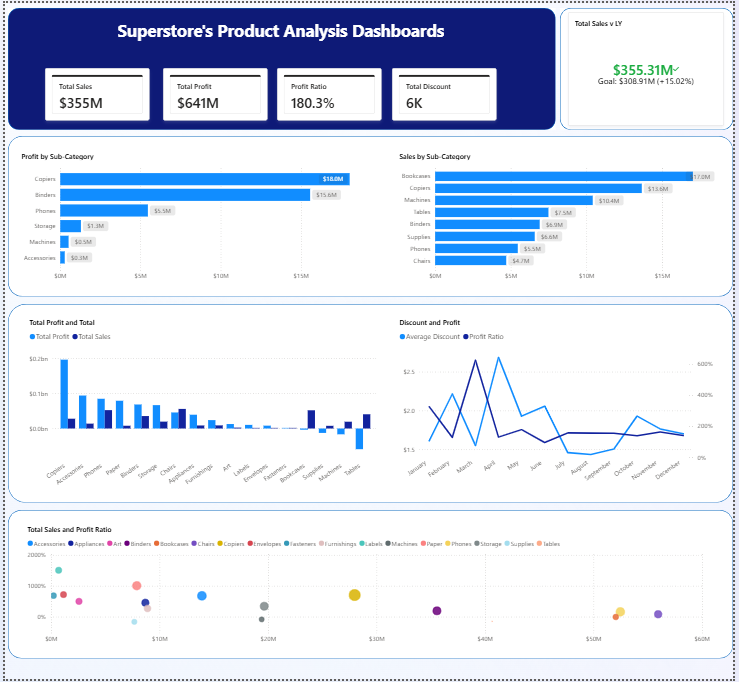

Layout of this report page (visuals, bound fields, positions):
{"tool":"powerbi","page":{"name":"Overview","canvas":[1400,1300],"ordinal":0},"visuals":[{"type":"shape","box":[1066.2,8.8,321.2,235],"z":0},{"type":"shape","box":[18.8,975,1368.8,286.2],"z":1000},{"type":"shape","box":[18.8,578.8,1368.8,382.5],"z":2000},{"type":"shape","box":[18.8,256.2,1368.8,308.8],"z":3000},{"type":"shape","box":[18.8,8.8,1040,235],"z":4000},{"type":"clusteredBarChart","title":"Sales by Sub-Category","fields":{"Category":["Superstore.Sub-Category"],"Y":["Superstore.Total Sales"]},"box":[746,273,627,277],"z":5000},{"type":"clusteredBarChart","title":"Profit by Sub-Category","fields":{"Y":["Superstore.Total Sales"],"Category":["Superstore.Sub-Category"]},"box":[31,273,699,277],"z":6000},{"type":"clusteredColumnChart","title":"Total Profit and Total ","fields":{"Y":["Superstore.Total Profit","Superstore.Total Sales"],"Category":["Superstore.Sub-Category"]},"box":[35.4,592.2,694.4,356.7],"z":7000},{"type":"scatterChart","title":"Total Sales and Profit Ratio","fields":{"X":["Superstore.Total Sales"],"Series":["Superstore.Sub-Category"],"Y":["Superstore.Profit Ratio"],"Size":["Superstore.Total Profit"]},"box":[31.1,990,1337.8,256.7],"z":8000},{"type":"lineChart","title":"Discount and Profit ","fields":{"Y":["Superstore.Average Discount"],"Y2":["Superstore.Profit Ratio"],"Category":["Date.Date.Variation.Date Hierarchy.Month"]},"box":[745.4,592.2,627.8,356.7],"z":9000},{"type":"textbox","box":[18.9,25.6,1022.2,77.8],"z":10000},{"type":"cardVisual","fields":{"Data":["Sum(Superstore.Discount)"]},"box":[743.3,124.4,201.1,101.1],"z":11000},{"type":"cardVisual","fields":{"Data":["Superstore.Total Profit"]},"box":[304.4,124.4,201.1,101.1],"z":12000},{"type":"cardVisual","fields":{"Data":["Superstore.Total Sales"]},"box":[77.8,124.4,201.1,101.1],"z":13000},{"type":"cardVisual","fields":{"Data":["Superstore.Profit Ratio"]},"box":[522.2,124.4,201.1,101.1],"z":14000},{"type":"kpi","title":"Total Sales v LY","fields":{"TrendLine":["Date.Date.Variation.Date Hierarchy.Year"],"Indicator":["Superstore.Total Sales"],"Goal":["Superstore.YoY Sales"]},"box":[1083.3,16.7,300,218.9],"z":15000}]}

Visuals, with their boxes in screenshot pixels (x1, y1, x2, y2), scaled from the page's 1400x1300 canvas onto the 739x682 screenshot:
shape: [x1=563, y1=5, x2=732, y2=128]
shape: [x1=10, y1=512, x2=732, y2=662]
shape: [x1=10, y1=304, x2=732, y2=504]
shape: [x1=10, y1=134, x2=732, y2=296]
shape: [x1=10, y1=5, x2=559, y2=128]
"Sales by Sub-Category" clusteredBarChart: [x1=394, y1=143, x2=725, y2=289]
"Profit by Sub-Category" clusteredBarChart: [x1=16, y1=143, x2=385, y2=289]
"Total Profit and Total " clusteredColumnChart: [x1=19, y1=311, x2=385, y2=498]
"Total Sales and Profit Ratio" scatterChart: [x1=16, y1=519, x2=723, y2=654]
"Discount and Profit " lineChart: [x1=393, y1=311, x2=725, y2=498]
textbox: [x1=10, y1=13, x2=550, y2=54]
cardVisual - Sum(Superstore.Discount): [x1=392, y1=65, x2=499, y2=118]
cardVisual - Superstore.Total Profit: [x1=161, y1=65, x2=267, y2=118]
cardVisual - Superstore.Total Sales: [x1=41, y1=65, x2=147, y2=118]
cardVisual - Superstore.Profit Ratio: [x1=276, y1=65, x2=382, y2=118]
"Total Sales v LY" kpi: [x1=572, y1=9, x2=730, y2=124]
